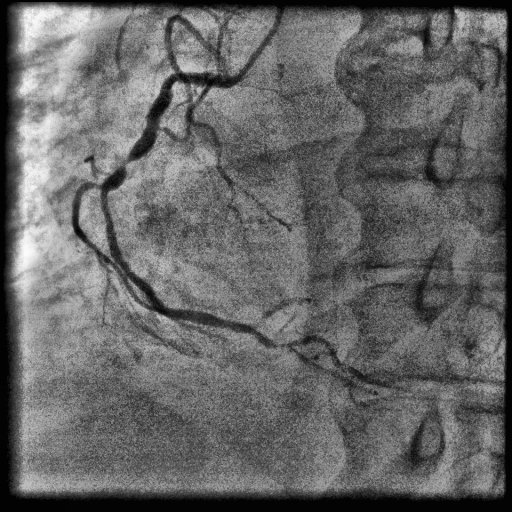pborca: (252, 297, 312, 328)
pda: (251, 329, 373, 383)
rca: (100, 71, 252, 334)
